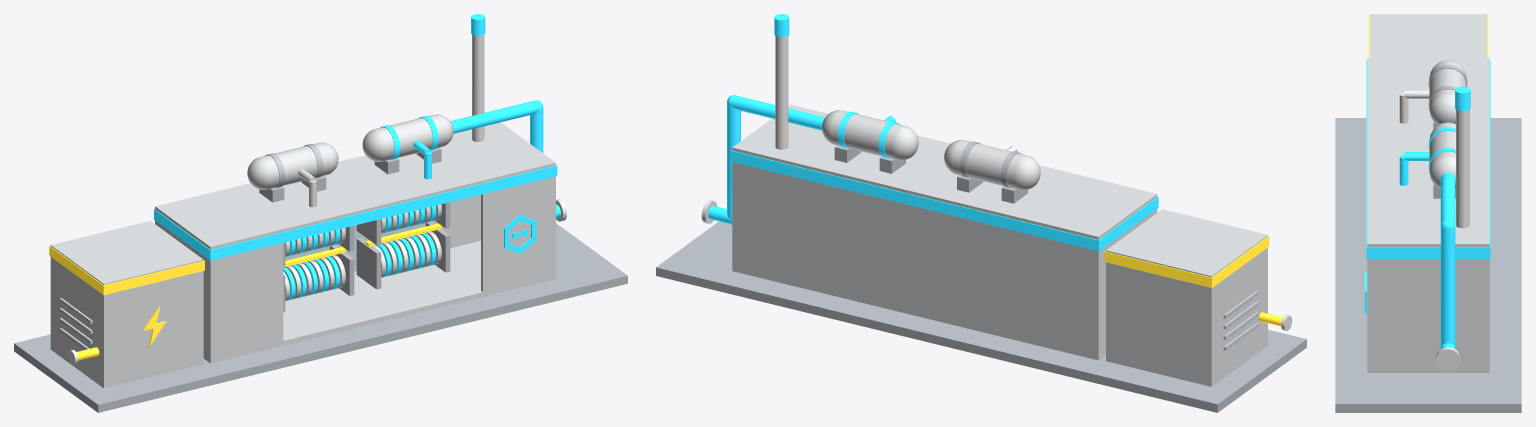
The model's file is Electrolyzer.glb.
3 renders of one model, left to right at view 1: azimuth 30°, elevation 25°; view 2: azimuth 150°, elevation 25°; view 3: azimuth 270°, elevation 25°, orthographic. The views are drawn at different scales.
Visible parts, largest first — view 1: rectifier, roof, plinth, front_wall (×2), floor, band (×2), h2_separator, o2_separator, end_wall (×2), back_wall, vent_stack, pipe (+3 smaller); view 2: back_wall, rectifier, plinth, roof, band (×2), o2_separator, h2_separator, pipe (×2), vent_stack, end_wall; view 3: plinth, roof, end_wall (×2), rectifier, pipe (×2), band (×2), vent_stack, o2_separator, back_wall, h2_separator, riser (×4), floor (+3 smaller).
Part boxes in pixels (x1,y1,x2,y2): rectifier: [50, 220, 203, 388]; roof: [155, 123, 555, 249]; plinth: [14, 223, 627, 412]; front_wall (×2): [208, 163, 555, 363]; floor: [203, 241, 555, 363]; band (×2): [49, 165, 557, 295]; h2_separator: [362, 114, 453, 161]; o2_separator: [247, 142, 338, 189]; end_wall (×2): [155, 123, 555, 363]; back_wall: [155, 122, 502, 271]; vent_stack: [472, 34, 484, 141]; pipe: [450, 100, 539, 133]; back_wall: [732, 146, 1100, 360]; rectifier: [1106, 209, 1267, 386]; plinth: [656, 221, 1306, 412]; roof: [733, 104, 1157, 239]; band (×2): [731, 150, 1269, 287]; o2_separator: [944, 140, 1040, 190]; h2_separator: [822, 110, 918, 160]; pipe (×2): [727, 95, 824, 220]; vent_stack: [775, 36, 788, 149]; end_wall: [1094, 193, 1157, 357]; plinth: [1335, 118, 1521, 412]; roof: [1367, 57, 1489, 247]; end_wall (×2): [1367, 57, 1489, 372]; rectifier: [1369, 14, 1487, 57]; pipe (×2): [1440, 172, 1455, 346]; band (×2): [1366, 60, 1490, 259]; vent_stack: [1456, 109, 1469, 228]; o2_separator: [1429, 60, 1466, 124]; back_wall: [1485, 57, 1489, 372]; h2_separator: [1429, 122, 1455, 188]; riser (×4): [1399, 90, 1429, 185]; floor: [1367, 367, 1489, 372].
Bounding box in the file's own units: 13.92 × 6.15 × 3.8.
